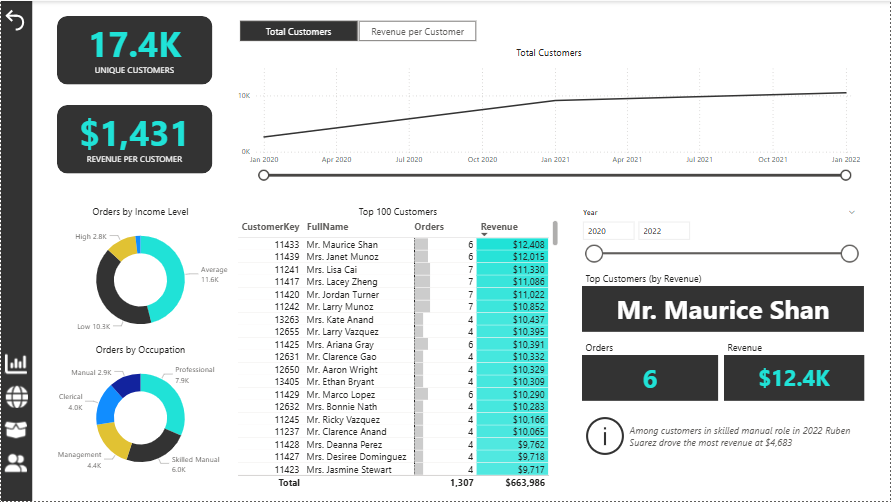

Layout of this report page (visuals, bound fields, positions):
{"tool":"powerbi","page":{"name":"Customer Detail","canvas":[1280,720],"ordinal":3},"visuals":[{"type":"shape","box":[0,0,45,720],"z":0},{"type":"actionButton","box":[2,502.6,44.6,40.3],"z":1000,"group":"g1"},{"type":"shape","box":[81.3,22,223.8,98.8],"z":1000},{"type":"actionButton","box":[2,597.6,44.6,40.3],"z":2000,"group":"g1"},{"type":"shape","box":[80.7,150.2,223.8,98.8],"z":2000},{"type":"card","fields":{"Values":["Measure Table.Total Revenue per Customer"]},"box":[66.2,128.4,252,133.9],"z":3000},{"type":"actionButton","box":[2,645.2,44.6,40.3],"z":3000,"group":"g1"},{"type":"card","fields":{"Values":["Measure Table.Total Customers"]},"box":[66.7,0.3,252,133.9],"z":4000},{"type":"actionButton","box":[3.4,550.1,41.8,40.3],"z":4000,"group":"g1"},{"type":"lineChart","fields":{"Y":["Measure Table.Total Customers"],"Category":["Calendar Lookup.Date Hierarchy.Start of Year","Calendar Lookup.Date Hierarchy.Start of Month","Calendar Lookup.Date Hierarchy.Start of Week","Calendar Lookup.Date Hierarchy.Date"]},"box":[335.5,64.8,907.2,197.3],"z":5000},{"type":"donutChart","title":"Orders by Income Level","fields":{"Category":["Customer Lookup.Income Level"],"Y":["Measure Table.Total Orders"]},"box":[66.2,293.8,269.3,198.7],"z":6000},{"type":"donutChart","title":"Orders by Occupation","fields":{"Y":["Measure Table.Total Orders"],"Category":["Customer Lookup.Occupation"]},"box":[66.2,492.5,269.3,198.7],"z":7000},{"type":"tableEx","title":"Top 100 Customers","fields":{"Values":["Customer Lookup.CustomerKey","Customer Lookup.FullName","Measure Table.Total Orders","Measure Table.Total Revenue"]},"box":[335.5,293.8,472.3,411.8],"z":8000},{"type":"card","fields":{"Values":["Customer Lookup.Full Name (CD)"]},"box":[836.6,410.4,406.1,66.2],"z":9000},{"type":"card","fields":{"Values":["Measure Table.Total Orders (CD)"]},"box":[836.6,509.8,195.8,66.2],"z":10000},{"type":"card","fields":{"Values":["Measure Table.Total Revenue (CD)"]},"box":[1041.1,509.8,201.6,66.2],"z":11000},{"type":"textbox","box":[836.6,385.9,195.8,47.5],"z":12000},{"type":"textbox","box":[836.6,485.3,195.8,47.5],"z":13000},{"type":"textbox","box":[1041.1,485.3,195.8,47.5],"z":14000},{"type":"slicer","fields":{"Values":["Calendar Lookup.Year"]},"box":[825.1,293.8,417.6,92.2],"z":15000},{"type":"actionButton","box":[835.2,591.8,407.5,69.1],"z":16000},{"type":"actionButton","box":[0,7.2,44.6,40.3],"z":17000},{"type":"group","id":"g1","title":"Navigation Buttons","box":[2,502.6,44.6,182.9],"z":18000},{"type":"slicer","fields":{"Values":["Customer Metric Selection.Customer Metric Selection"]},"box":[318.2,21.6,390.2,43.2],"z":18501}]}

Visuals, with their boxes on the page's 1280x720 design canvas (x1, y1, x2, y2). These are canvas units, not pixel positions in the 891x502 screenshot, which may show the page scaled, cropped or inside an application window:
shape: Rect(0, 0, 45, 720)
actionButton: Rect(2, 503, 47, 543)
shape: Rect(81, 22, 305, 121)
actionButton: Rect(2, 598, 47, 638)
shape: Rect(81, 150, 304, 249)
card - Measure Table.Total Revenue per Customer: Rect(66, 128, 318, 262)
actionButton: Rect(2, 645, 47, 686)
card - Measure Table.Total Customers: Rect(67, 0, 319, 134)
actionButton: Rect(3, 550, 45, 590)
lineChart - Measure Table.Total Customers x Calendar Lookup.Date Hierarchy.Start of Year: Rect(336, 65, 1243, 262)
"Orders by Income Level" donutChart: Rect(66, 294, 336, 492)
"Orders by Occupation" donutChart: Rect(66, 492, 336, 691)
"Top 100 Customers" tableEx: Rect(336, 294, 808, 706)
card - Customer Lookup.Full Name (CD): Rect(837, 410, 1243, 477)
card - Measure Table.Total Orders (CD): Rect(837, 510, 1032, 576)
card - Measure Table.Total Revenue (CD): Rect(1041, 510, 1243, 576)
textbox: Rect(837, 386, 1032, 433)
textbox: Rect(837, 485, 1032, 533)
textbox: Rect(1041, 485, 1237, 533)
slicer - Calendar Lookup.Year: Rect(825, 294, 1243, 386)
actionButton: Rect(835, 592, 1243, 661)
actionButton: Rect(0, 7, 45, 48)
"Navigation Buttons" group: Rect(2, 503, 47, 686)
slicer - Customer Metric Selection.Customer Metric Selection: Rect(318, 22, 708, 65)
